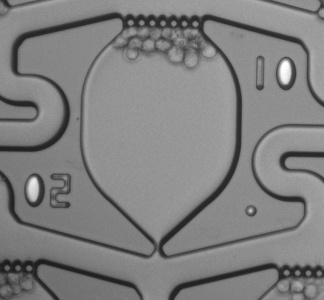AptNum: (242, 52, 304, 97)
Marker: (237, 198, 267, 225)
StNum: (16, 167, 78, 217)
Trap: (137, 245, 181, 287)
